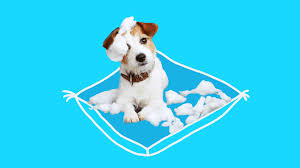dog: (91, 15, 186, 78)
